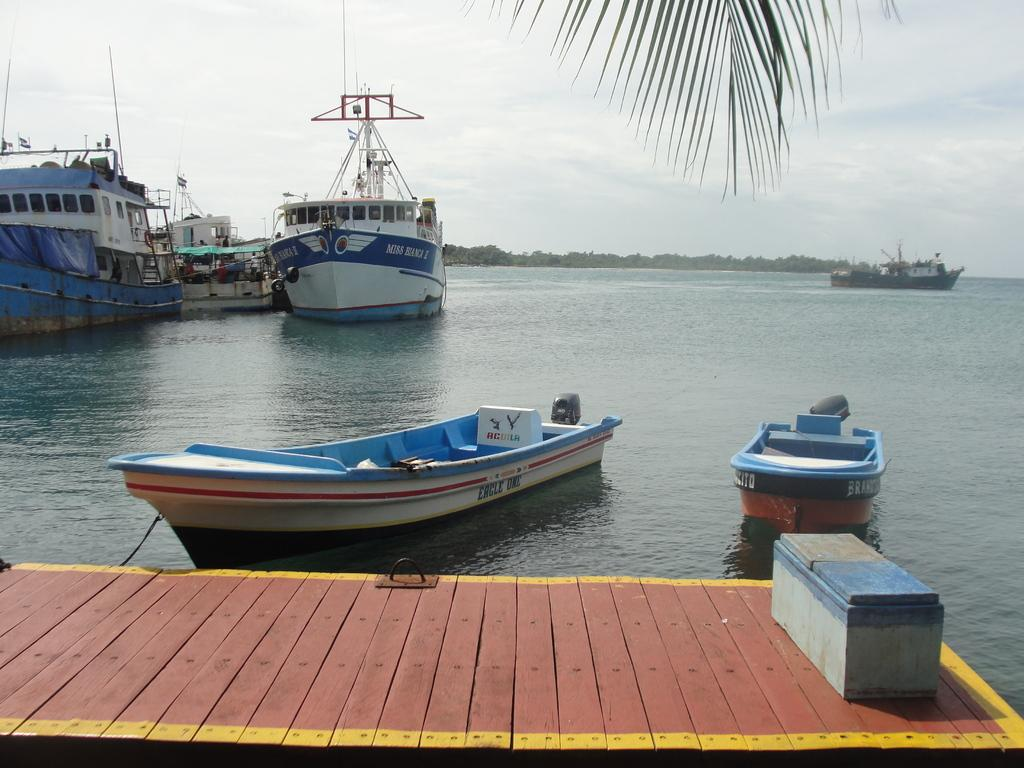PassengerShip: (240, 71, 472, 323), (0, 45, 184, 336)
